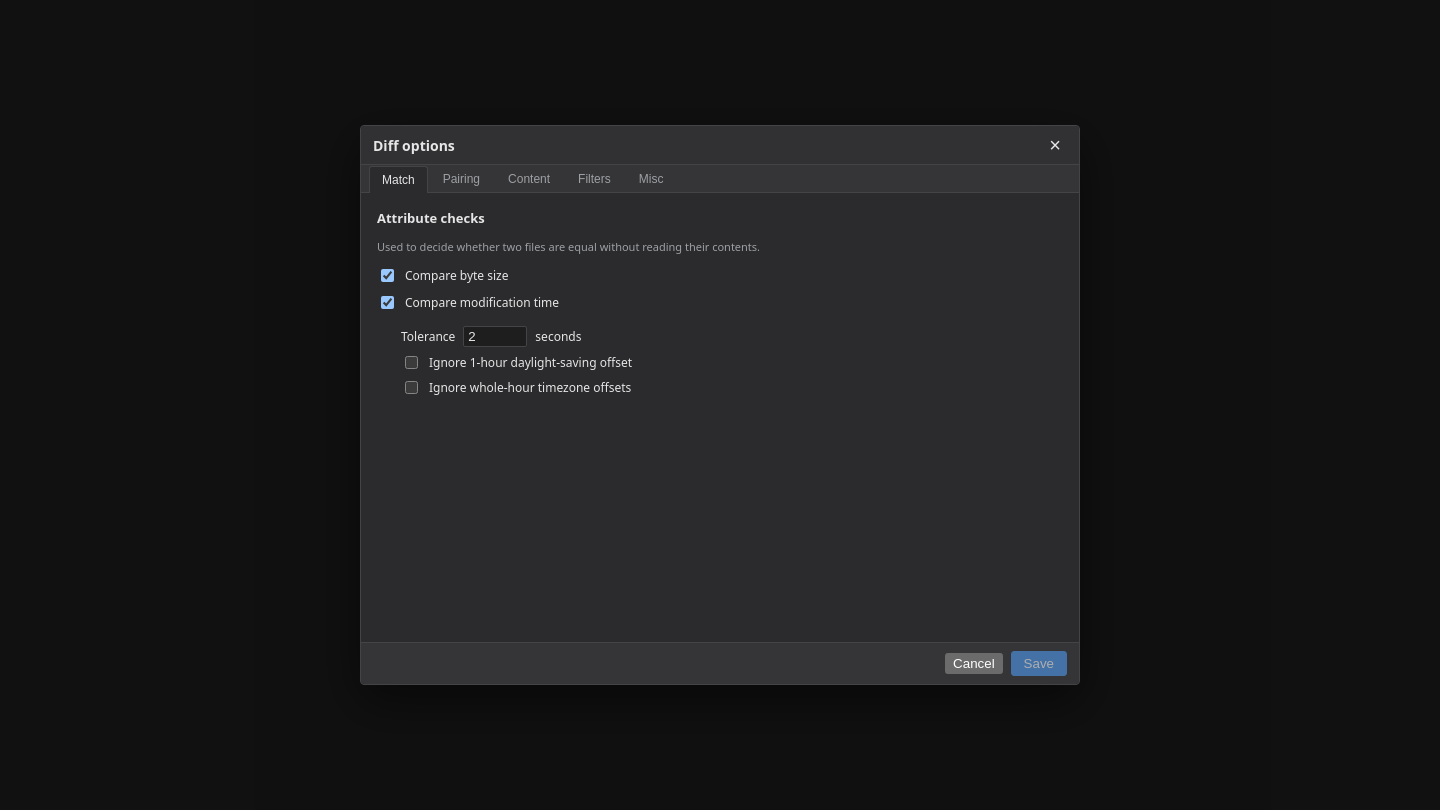
Test: <DiffOptionsDialog /> › switches tabs when a tab button is clicked
Click the tab "Pairing": (461, 178) [430, 165, 493, 192]
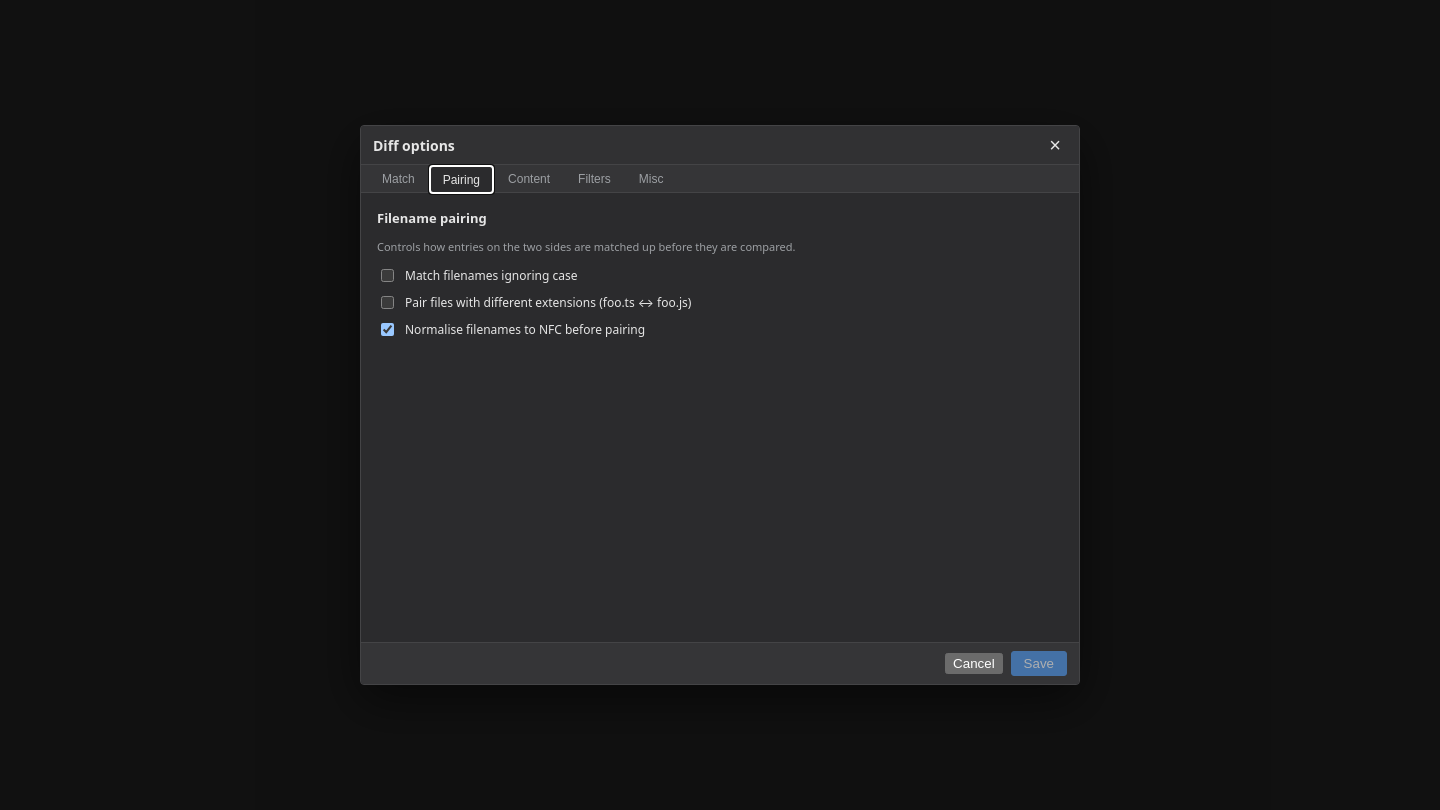
Check: the checkbox labelled "Match filenames ignoring case" is shown, box [381, 269, 394, 282]
Click the tab "Content": (529, 178) [495, 165, 563, 192]
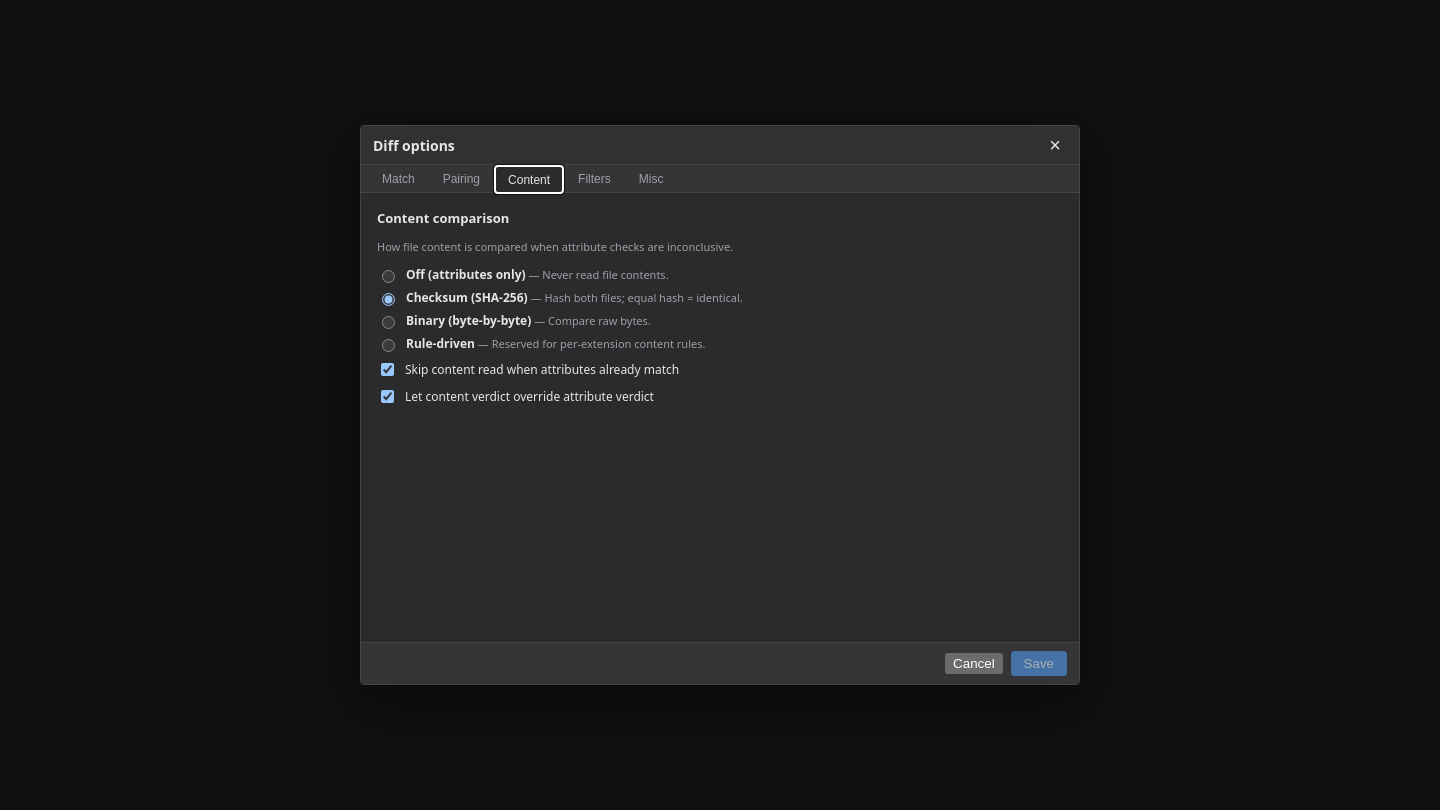
Check: the radio button labelled "Checksum (SHA-256)" is shown, box [382, 292, 395, 306]
